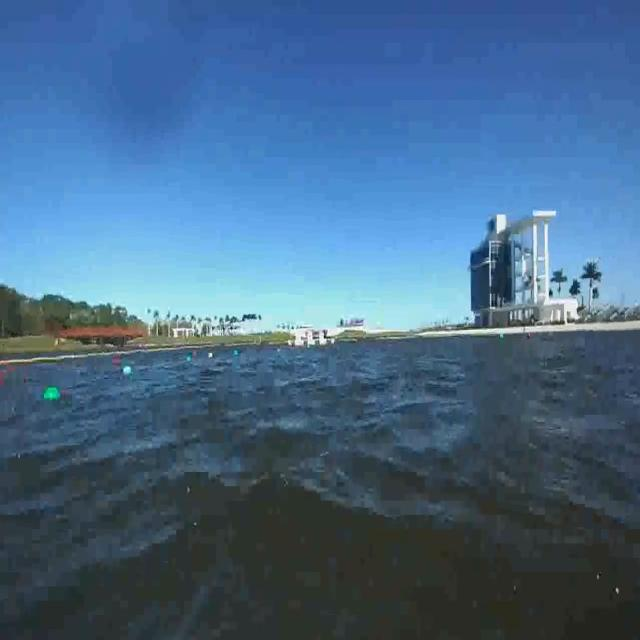green-buoy: (46, 385, 62, 400), (121, 364, 133, 376)
